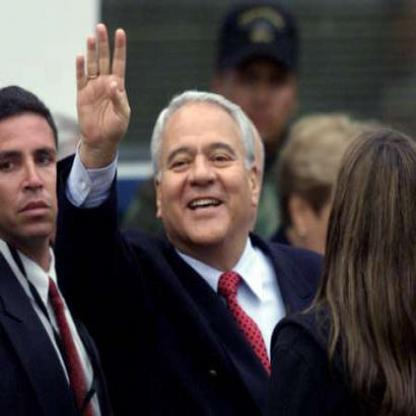face: (160, 92, 251, 252), (1, 89, 67, 247), (223, 14, 302, 145)
